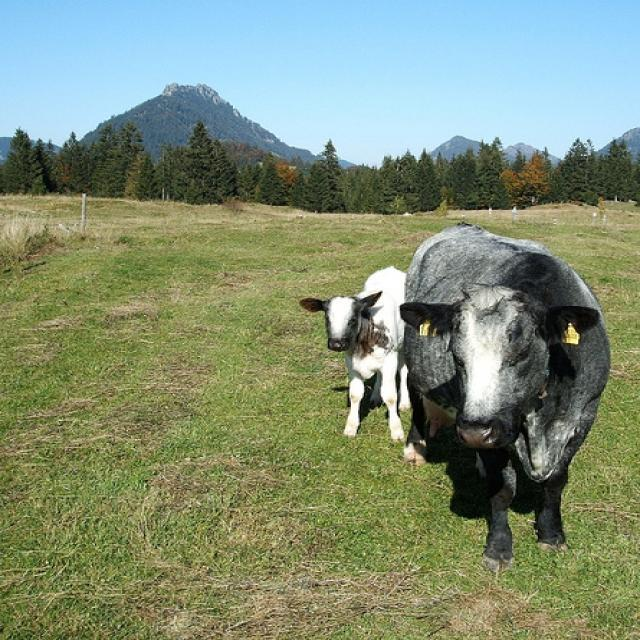cow: (395, 218, 607, 566), (297, 264, 409, 439)
